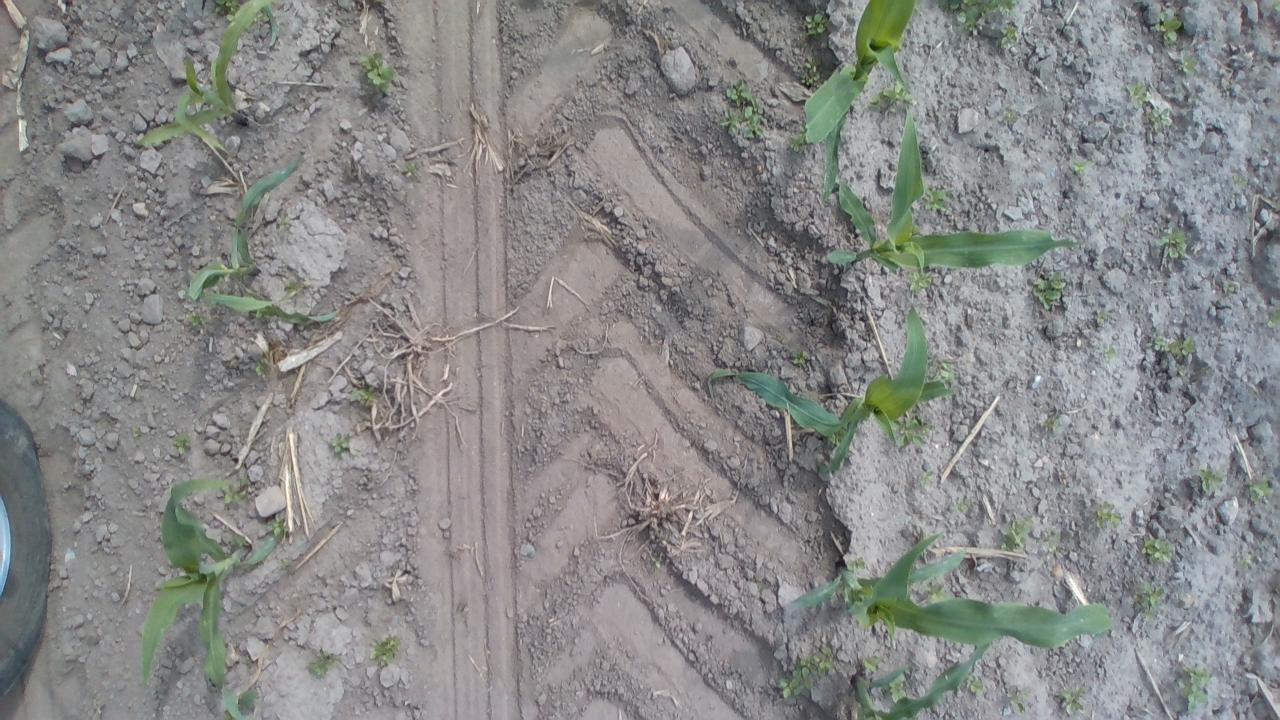Maize: (696, 300, 962, 478), (822, 102, 1077, 284), (786, 531, 1120, 654), (128, 470, 290, 712), (794, 0, 930, 214), (130, 2, 286, 160), (180, 154, 330, 316), (846, 638, 993, 720)
Weeds: (776, 643, 840, 702), (716, 77, 768, 142), (942, 1, 1019, 38), (357, 47, 399, 96), (1128, 577, 1170, 626), (1174, 666, 1216, 710), (1145, 332, 1199, 366), (891, 411, 936, 451), (1030, 271, 1070, 313), (998, 514, 1036, 556), (1156, 222, 1192, 262), (869, 81, 914, 112), (368, 632, 404, 669), (1056, 682, 1092, 715), (1152, 13, 1186, 47), (1138, 536, 1176, 566), (1244, 472, 1275, 506), (1092, 500, 1124, 532), (920, 184, 954, 214), (800, 10, 833, 40), (307, 649, 340, 679), (801, 56, 828, 92), (1196, 465, 1226, 497), (326, 431, 359, 460), (1144, 103, 1174, 134), (348, 384, 380, 412), (218, 476, 249, 504), (881, 675, 910, 704), (1004, 686, 1034, 714), (788, 122, 814, 154), (267, 513, 293, 542), (1040, 529, 1066, 557), (998, 20, 1022, 50), (1037, 410, 1063, 437), (184, 307, 212, 332), (1217, 273, 1241, 301), (1068, 155, 1094, 180), (1126, 80, 1151, 106), (961, 673, 988, 697), (949, 491, 974, 516), (172, 432, 194, 460), (909, 270, 934, 294), (398, 155, 422, 180), (1176, 51, 1200, 75), (216, 1, 242, 23), (923, 580, 951, 600), (1091, 306, 1114, 330), (251, 356, 273, 380), (1236, 552, 1258, 576), (845, 554, 871, 574), (860, 655, 884, 676), (998, 106, 1022, 127), (644, 552, 666, 574), (284, 278, 308, 298), (1264, 304, 1280, 334), (1229, 171, 1250, 193), (789, 348, 812, 368), (1098, 343, 1122, 362), (916, 467, 934, 490), (277, 555, 297, 574), (129, 424, 147, 440)
